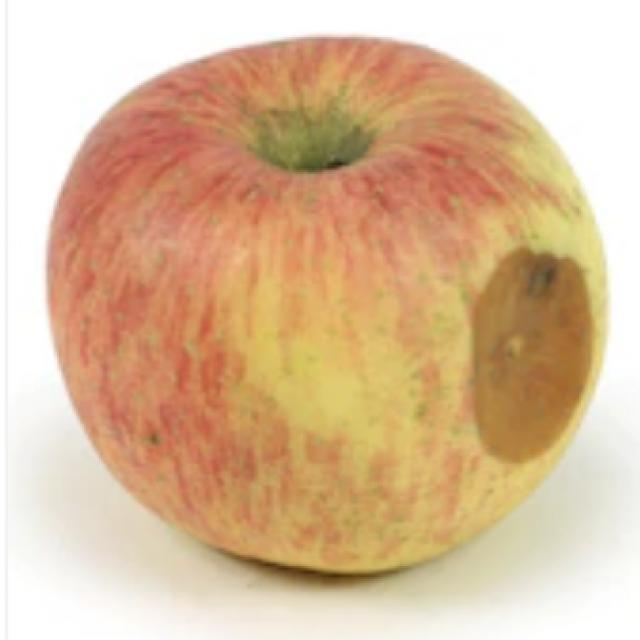Rotten: (38, 27, 610, 583)
